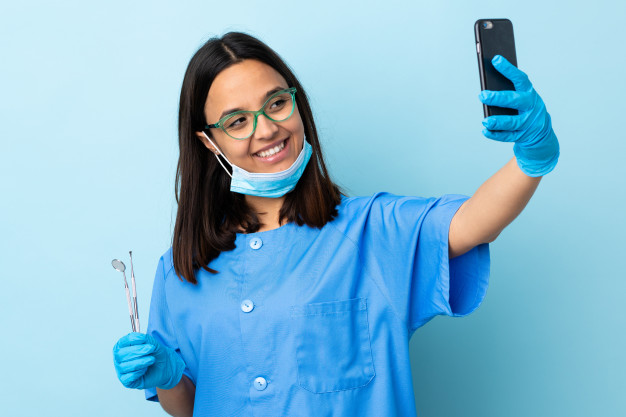mask_weared_incorrect: (192, 68, 317, 206)
